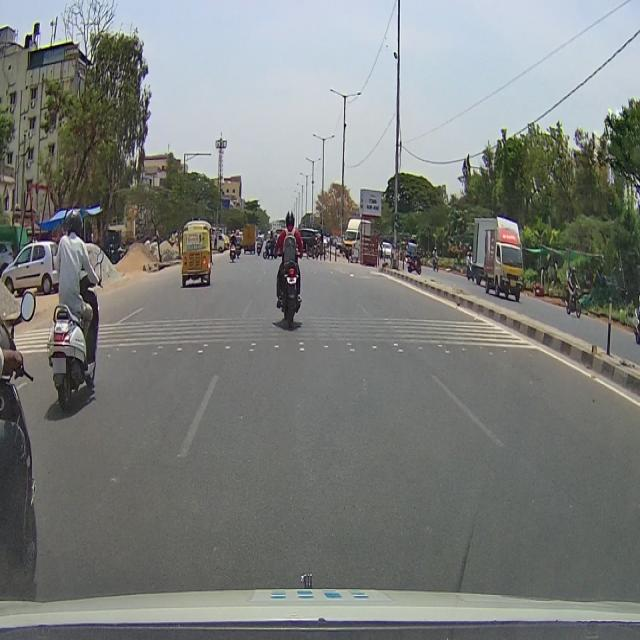auto ahead at: (178, 214, 215, 292)
car ahead at: (44, 298, 99, 412)
motorcycle ahead at: (270, 252, 310, 332)
